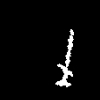double_crochet: (56, 29, 73, 86)
